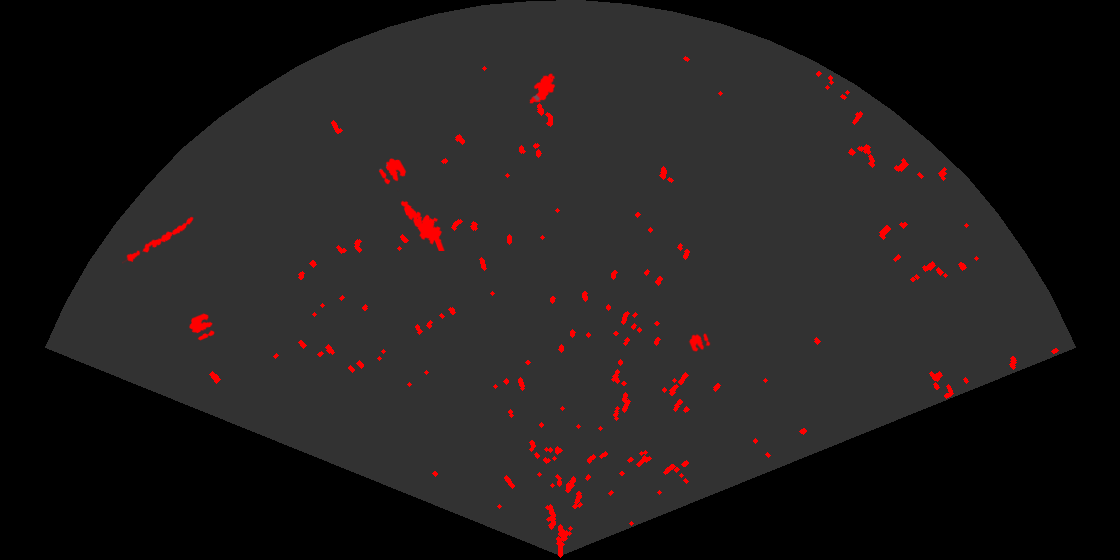AUV: (528, 72, 557, 105)
ball: (377, 157, 408, 186), (188, 312, 216, 342), (687, 332, 712, 353)
chain: (122, 215, 195, 265)
frogman: (397, 188, 446, 251)
